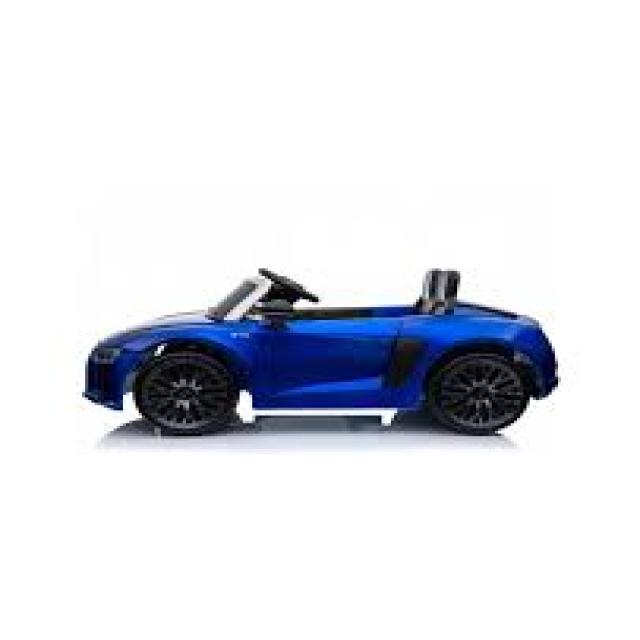Car: (79, 266, 558, 436)
